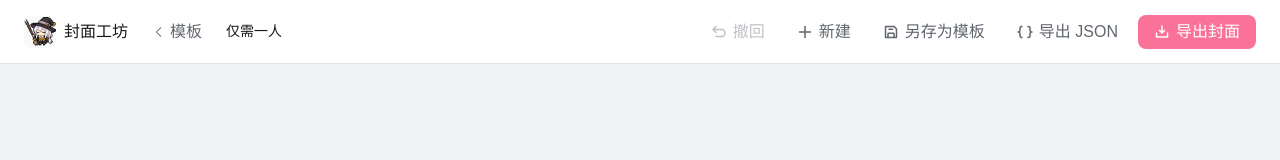
导出超时会提示而不是一直转
This screenshot has width=1280, height=160.
Step 1. Click the button "导出封面" → point(1197, 32), box [1138, 14, 1256, 48]
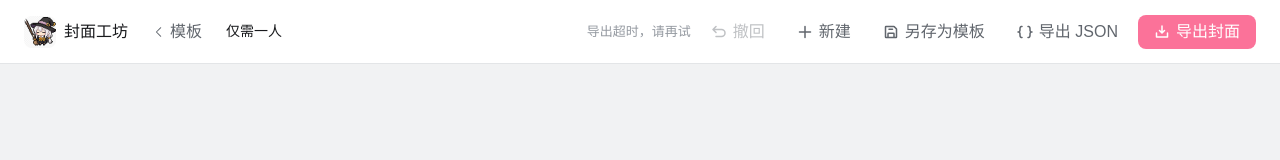
Expected: the text "导出超时，请再试" is shown, [587, 22, 691, 41]
